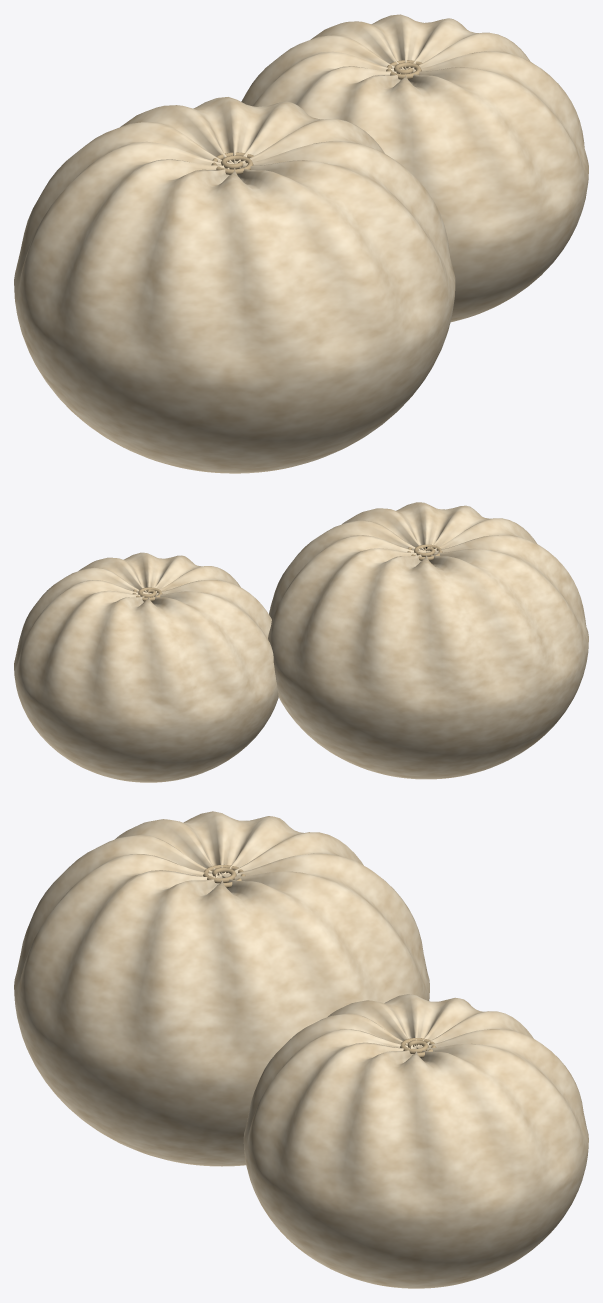
The model's file is food_ration_runtime.glb.
3 renders of one model, top to bottom at view 1: azimuth 30°, elevation 25°; view 2: azimuth 150°, elevation 25°; view 3: azimuth 270°, elevation 25°, orthographic. The views are drawn at different scales.
Parts seen in each view (by area): view 1: cn_food_bao_body; view 2: cn_food_bao_body; view 3: cn_food_bao_body.
Boxes of the visible parts, bbox=[...] form: cn_food_bao_body: bbox=[14, 14, 588, 473]; cn_food_bao_body: bbox=[14, 502, 588, 782]; cn_food_bao_body: bbox=[14, 811, 588, 1288].
Size of the model in its own units: 1.15 by 0.5064 by 0.9738.
Materials: 1 (1 with a texture image).
